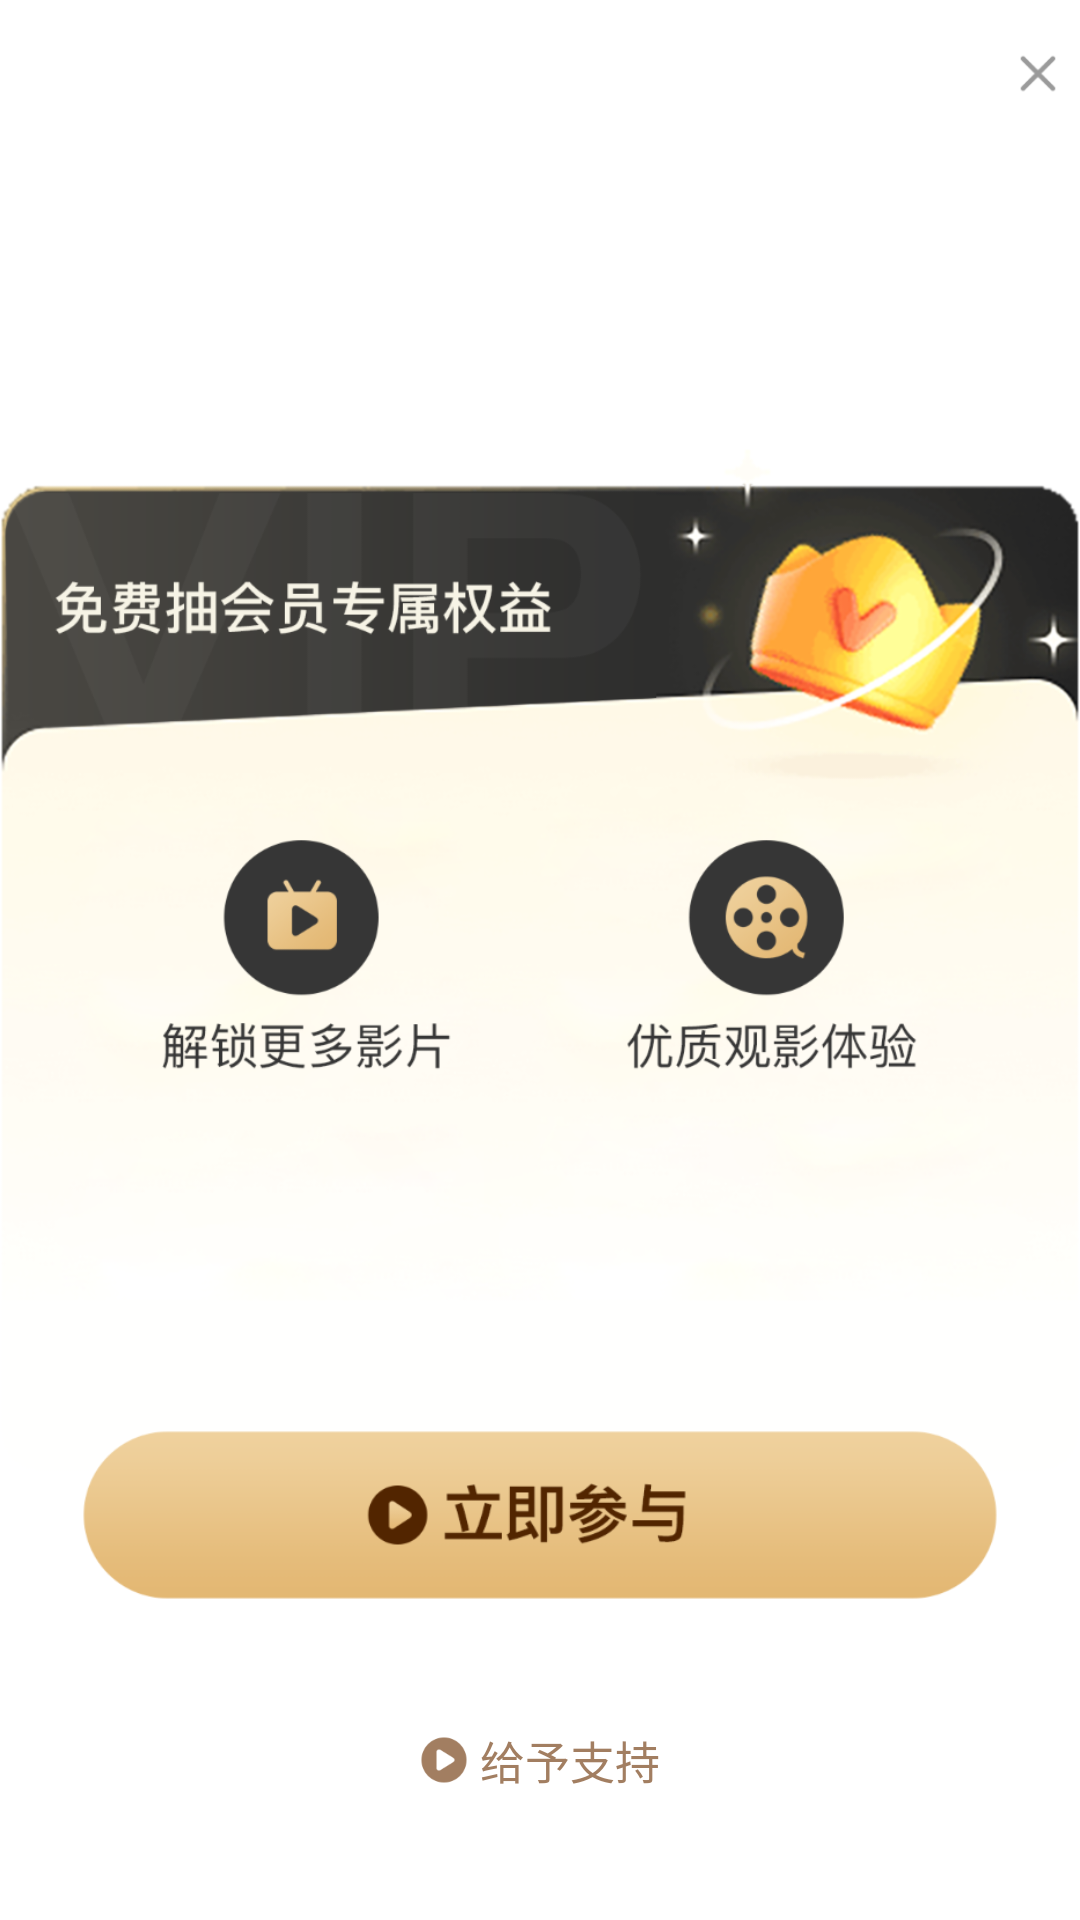

Icon click points for this 1080 × 1920 phone screenshot, format point (x, y):
close: point (1038, 73)
